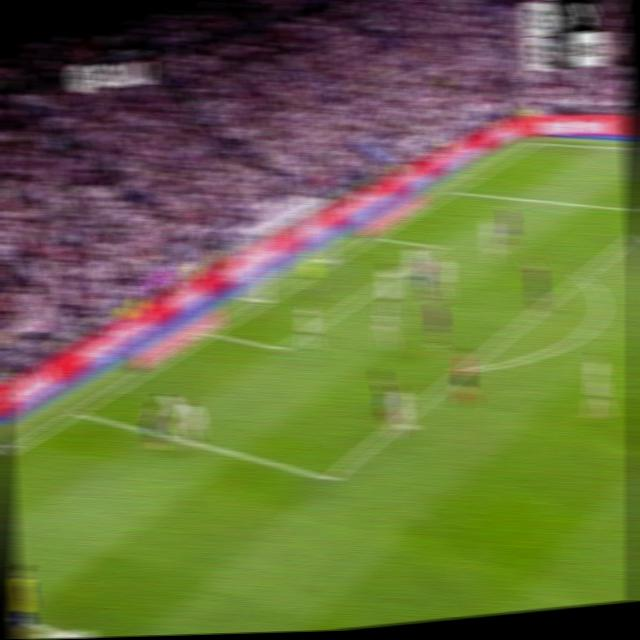bigarea_bottom_inner: (318, 463, 339, 492)
bigarea_bottom_outter: (68, 402, 85, 420)
bigarea_top_outter: (444, 183, 459, 196)
bottom_arc_area_intersection: (67, 402, 86, 420)
corner: (524, 135, 542, 148)
smallarea_bottom_inner: (273, 337, 290, 359)
smallarea_top_inner: (430, 238, 445, 254)
top_arc_area_intersection: (573, 267, 590, 285)
